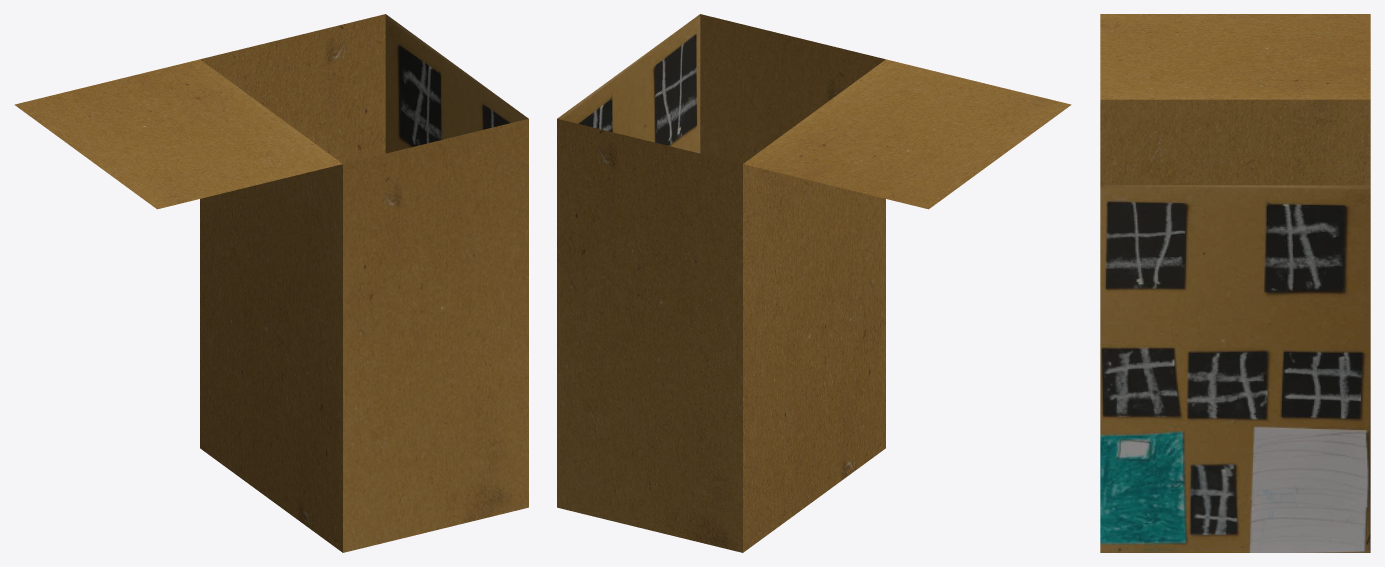
The picture shows the model from 3 angles, left to right: view 1: azimuth 30°, elevation 25°; view 2: azimuth 150°, elevation 25°; view 3: azimuth 270°, elevation 25°; orthographic projection. The views are drawn at different scales.
Parts seen in each view (by area): view 1: Cube, Cube.003, Cube.002; view 2: Cube, Cube.003, Cube.002; view 3: Cube, Cube.003, Cube.002.
Boxes of the visible parts, <box> form: Cube: <box>200,118,528,552</box>; Cube.003: <box>200,14,528,163</box>; Cube.002: <box>14,59,342,209</box>; Cube: <box>557,118,885,552</box>; Cube.003: <box>557,14,885,163</box>; Cube.002: <box>743,59,1071,209</box>; Cube: <box>1100,185,1370,552</box>; Cube.003: <box>1100,99,1370,185</box>; Cube.002: <box>1100,14,1370,99</box>.
Size of the model in its own units: 15 by 15 by 10.
1 material, 1 textured.
